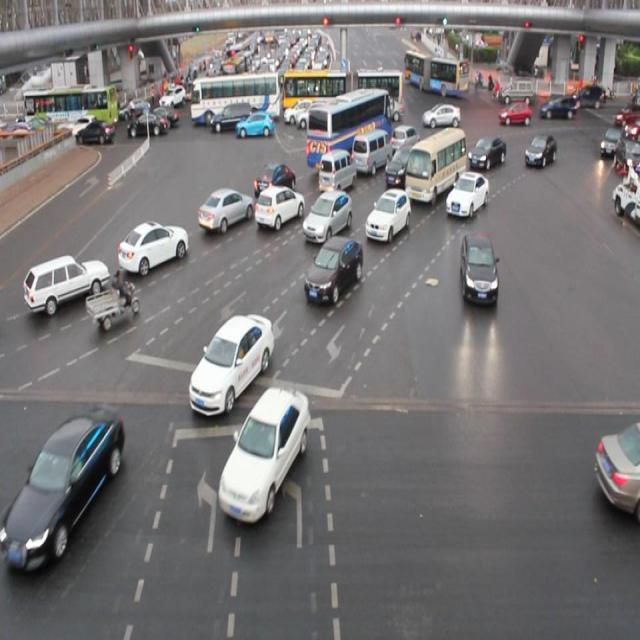car: (9, 404, 127, 574), (221, 385, 311, 528), (189, 308, 273, 420), (23, 253, 109, 317), (592, 415, 640, 520), (304, 236, 363, 306), (117, 220, 189, 275), (457, 230, 499, 306), (301, 187, 353, 242), (196, 185, 254, 233), (364, 189, 410, 244), (255, 181, 305, 230), (445, 171, 486, 219), (254, 162, 296, 202), (384, 145, 419, 186), (467, 136, 505, 171), (524, 132, 555, 168), (390, 125, 419, 161)
truck: (406, 128, 464, 206), (351, 130, 394, 177), (318, 150, 356, 196)
van: (306, 90, 392, 174)
